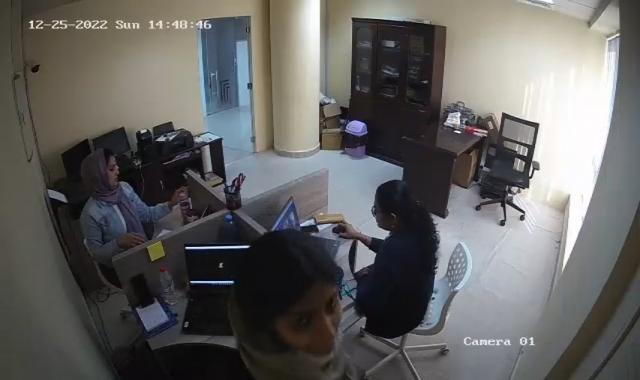no_hairnet: (234, 231, 340, 318), (374, 180, 418, 229), (79, 148, 121, 191)
